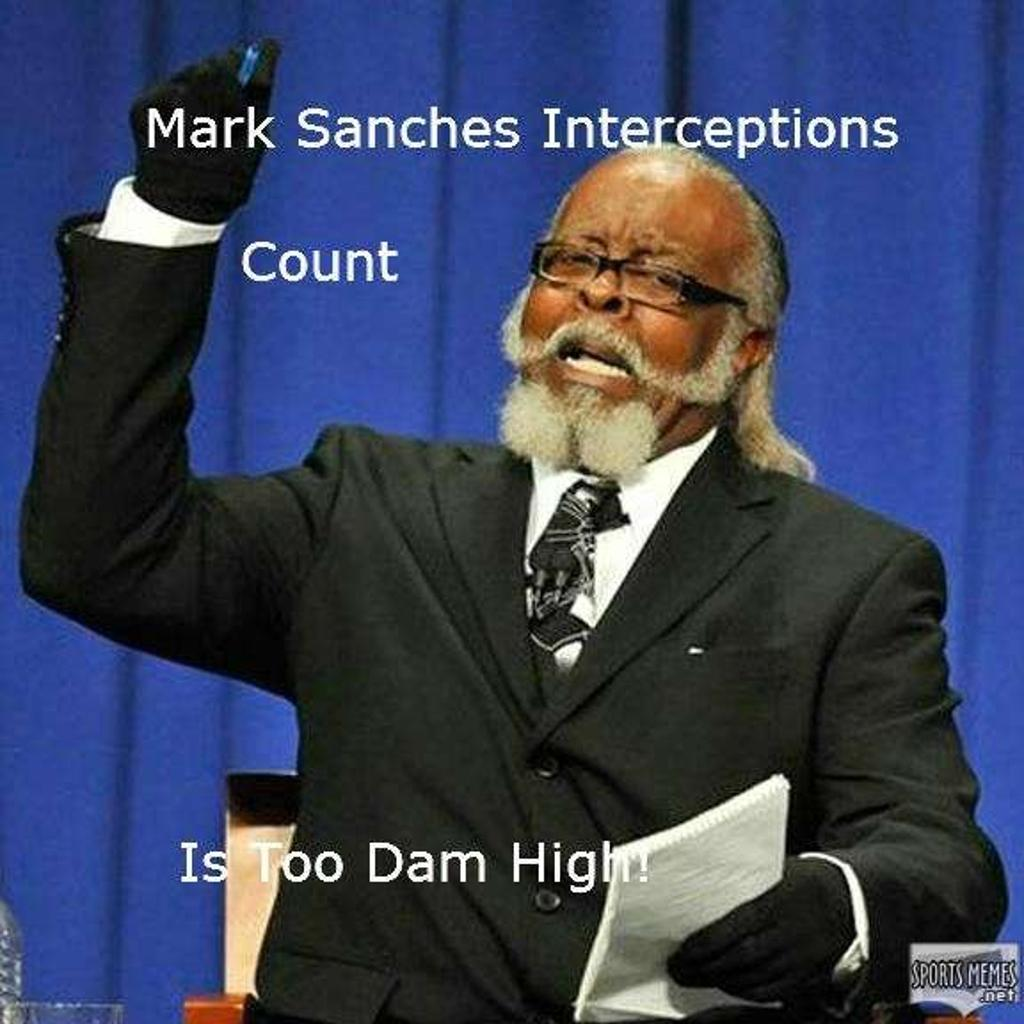face: (524, 172, 722, 466)
